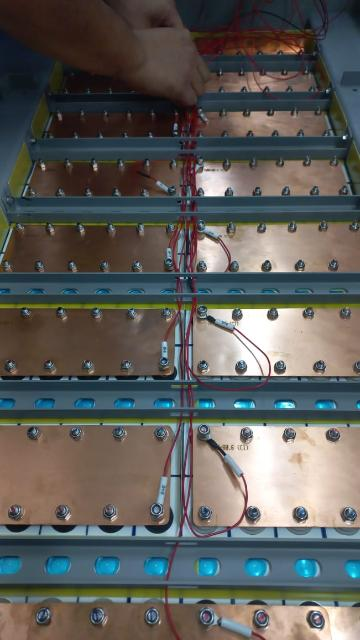busbar: (41, 49, 340, 131), (2, 425, 178, 528), (192, 424, 359, 529), (28, 112, 350, 163), (191, 310, 359, 375), (1, 312, 178, 373), (184, 220, 360, 278), (1, 224, 179, 276), (17, 155, 189, 205), (186, 158, 354, 201), (6, 601, 183, 640), (173, 603, 344, 640), (196, 107, 334, 139), (43, 109, 173, 140), (201, 63, 322, 96), (200, 86, 333, 110), (194, 30, 312, 56), (199, 48, 318, 71), (57, 69, 161, 95)
